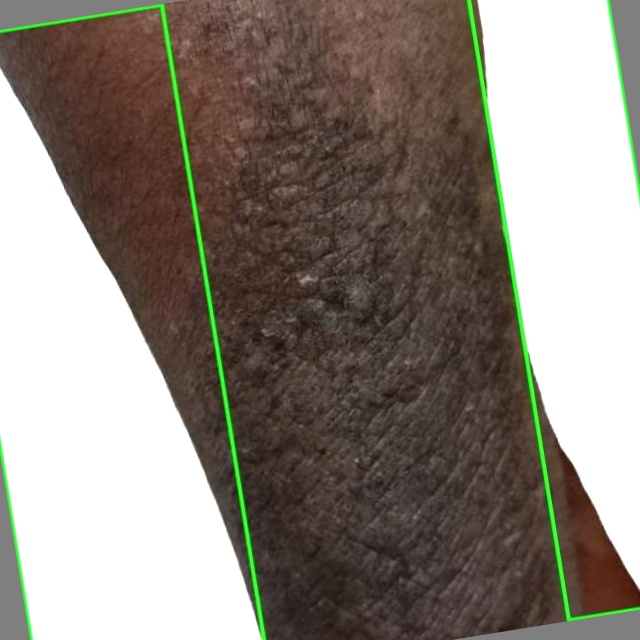Eczema: (0, 4, 264, 639), (469, 0, 639, 620)
